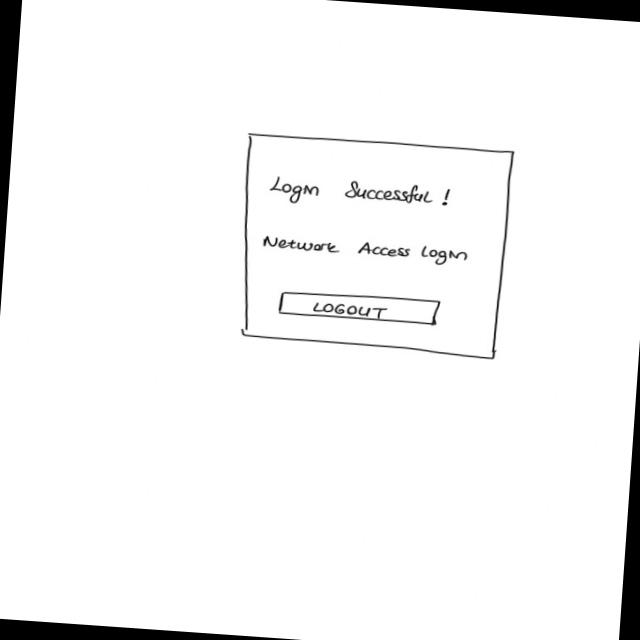button: (277, 288, 444, 327)
container: (232, 132, 516, 362)
label: (269, 175, 453, 217), (260, 234, 472, 269)
